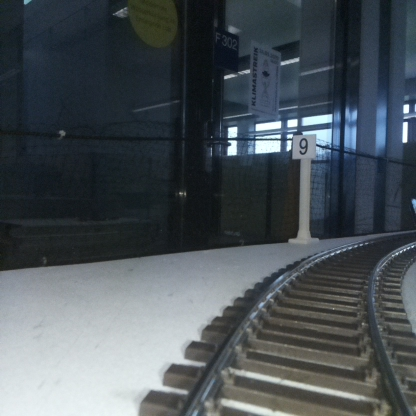white-info-9: (292, 135, 315, 240)
